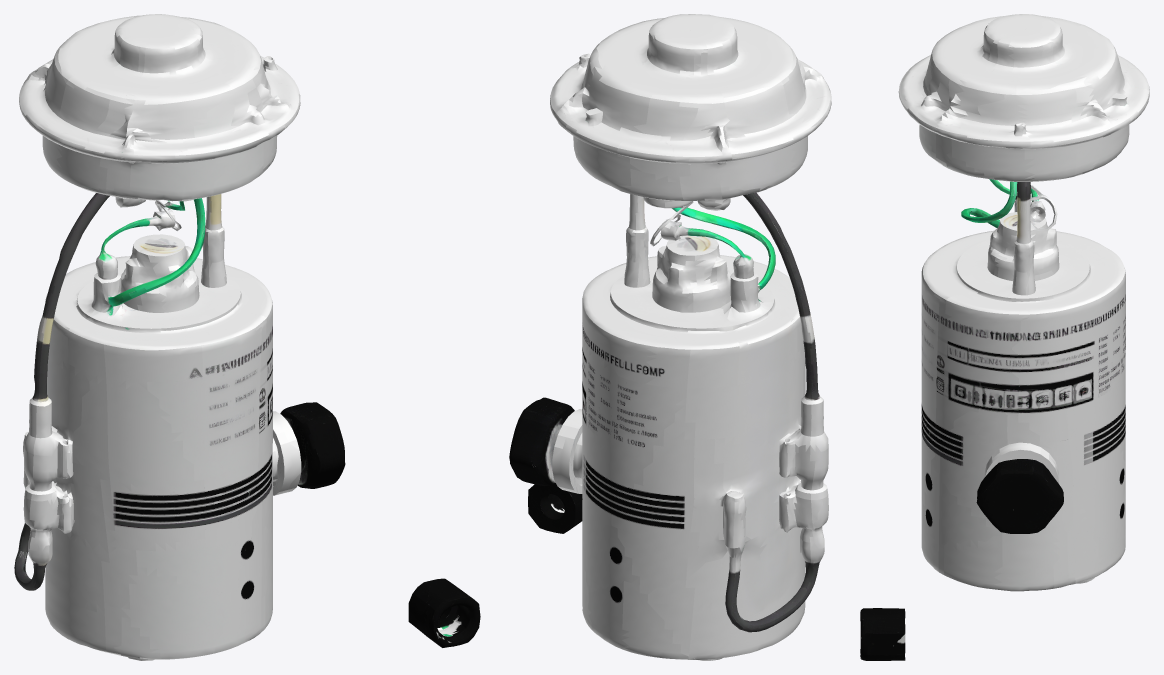
Rendered from hp-fuel-pump.glb.
3 views of the same model, side by side, from view 1: azimuth 30°, elevation 25°; view 2: azimuth 150°, elevation 25°; view 3: azimuth 270°, elevation 25° (orthographic). The views are drawn at different scales.
Size of the model in its own units: 1.2 by 1.9 by 0.9281.
1 material, 1 textured.
